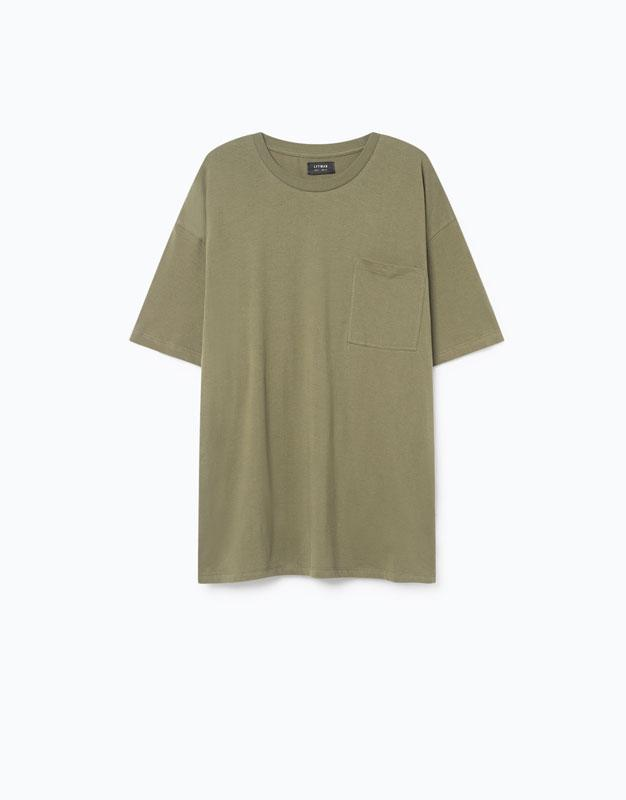teeshirt: (124, 117, 512, 661)
